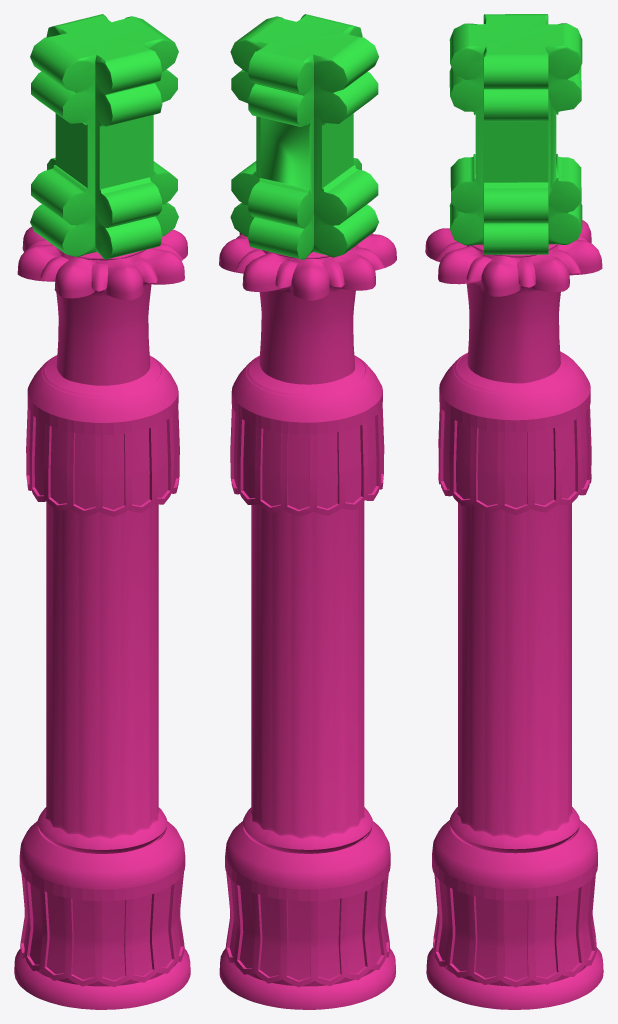
File: Col_Comp.FBX
The picture shows the model from 3 angles, left to right: view 1: azimuth 30°, elevation 25°; view 2: azimuth 150°, elevation 25°; view 3: azimuth 270°, elevation 25°; orthographic projection.
Visible parts, largest first — view 1: LP_Part1_TOPO001; view 2: LP_Part1_TOPO001; view 3: LP_Part1_TOPO001.
Boxes of the visible parts, x1=… form: LP_Part1_TOPO001: x1=14, y1=14, x2=190, y2=1009; LP_Part1_TOPO001: x1=219, y1=14, x2=396, y2=1009; LP_Part1_TOPO001: x1=425, y1=14, x2=603, y2=1009.
Size of the model in its own units: 112 by 654 by 113.
